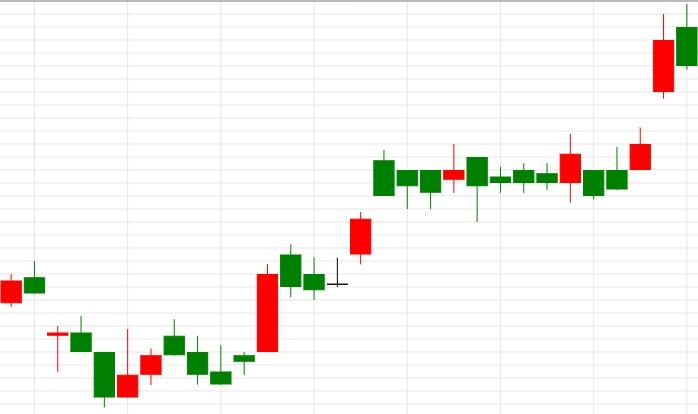inverse_hammer_rise: (23, 261, 139, 407)
